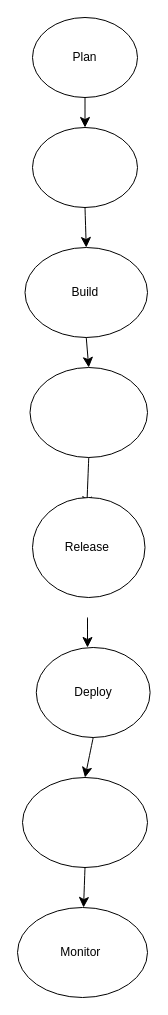
This 168x1015 diagram has some shape labels left out. Here are the shapes that lost their labels. From the top down, the box of each, then its label:
(32, 126, 138, 208): Devlop
(29, 366, 148, 458): Text
(22, 776, 148, 868): Operator
